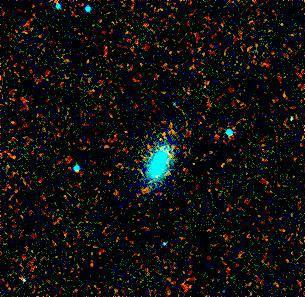star: (127, 175, 157, 205)
